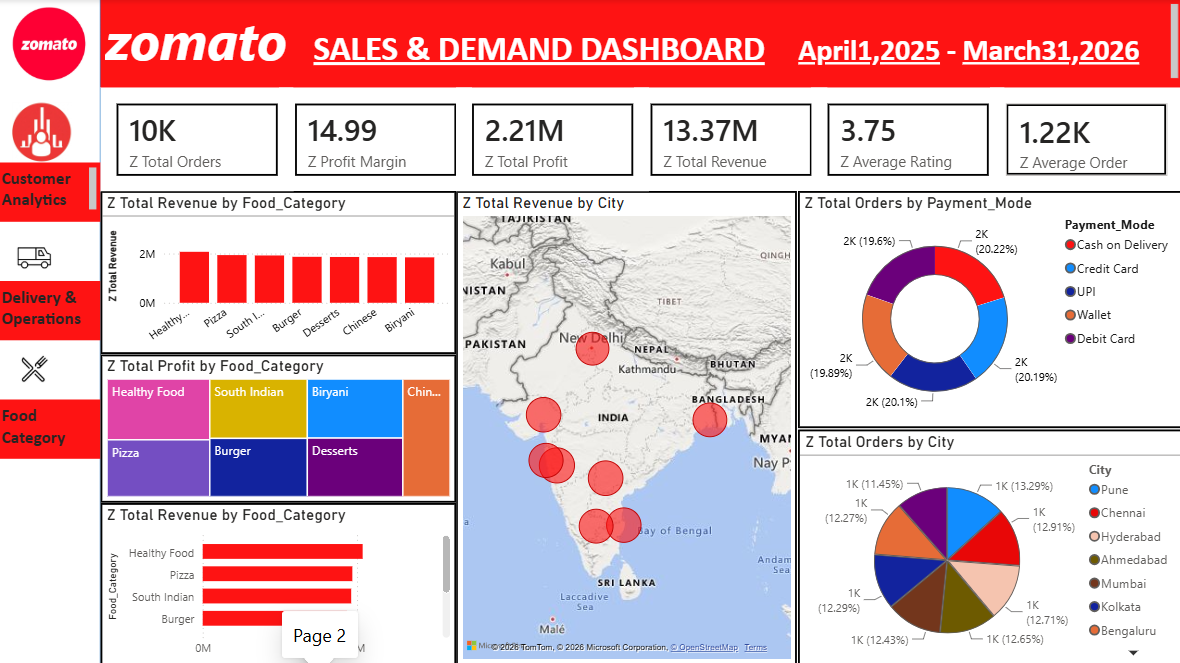

This screenshot's page, from the dashboard's own definition file:
{"tool":"powerbi","page":{"name":"Page 2","canvas":[1280,720],"ordinal":1},"visuals":[{"type":"shape","box":[0,0,112,720],"z":0},{"type":"image","box":[16,224,48,112],"z":1000},{"type":"image","box":[16,384,48,32],"z":2000},{"type":"image","box":[16,112,64,64],"z":3000},{"type":"textbox","box":[0,176,112,64],"z":4000},{"type":"textbox","box":[0,304,112,64],"z":5000},{"type":"textbox","box":[0,432,112,64],"z":6000},{"type":"textbox","box":[112,0,1168,96],"z":7000},{"type":"cardVisual","fields":{"Data":["Zomato_Sales_Data.Z Profit Margin"]},"box":[304,96,208,112],"z":8000},{"type":"cardVisual","fields":{"Data":["Zomato_Sales_Data.Z Total Revenue"]},"box":[688,96,208,112],"z":9000},{"type":"cardVisual","fields":{"Data":["Zomato_Sales_Data.Z Average Rating"]},"box":[880,96,208,112],"z":10000},{"type":"cardVisual","fields":{"Data":["Zomato_Sales_Data.Z Average Order"]},"box":[1072,96,208,112],"z":11000},{"type":"map","fields":{"Category":["Zomato_Sales_Data.City"],"Size":["Zomato_Sales_Data.Z Total Revenue"]},"box":[496,208,368,512],"z":12000},{"type":"clusteredColumnChart","fields":{"Category":["Zomato_Sales_Data.Food_Category"],"Y":["Zomato_Sales_Data.Z Total Revenue"]},"box":[112,208,384,176],"z":13000},{"type":"donutChart","fields":{"Y":["Zomato_Sales_Data.Z Total Orders"],"Category":["Zomato_Sales_Data.Payment_Mode"]},"box":[864,208,416,256],"z":14000},{"type":"clusteredBarChart","fields":{"Y":["Zomato_Sales_Data.Z Total Revenue"],"Category":["Zomato_Sales_Data.Food_Category"]},"box":[112,544,384,176],"z":15000},{"type":"treemap","fields":{"Values":["Zomato_Sales_Data.Z Total Profit"],"Details":["Zomato_Sales_Data.Food_Category"]},"box":[112,384,384,160],"z":16000},{"type":"pieChart","fields":{"Y":["Zomato_Sales_Data.Z Total Orders"],"Category":["Zomato_Sales_Data.City"]},"box":[864,464,416,256],"z":17000},{"type":"image","box":[0,0,112,96],"z":18000},{"type":"cardVisual","fields":{"Data":["Zomato_Sales_Data.Z Total Orders"]},"box":[112,96,208,112],"z":19000},{"type":"cardVisual","fields":{"Data":["Zomato_Sales_Data.Z Total Profit"]},"box":[496,96,208,112],"z":20000}]}

Visuals, with their boxes in screenshot pixels (x1, y1, x2, y2), scaled from the page's 1280x720 canvas onto the 1180x663 screenshot:
shape: (x1=0, y1=0, x2=103, y2=662)
image: (x1=15, y1=206, x2=59, y2=309)
image: (x1=15, y1=354, x2=59, y2=383)
image: (x1=15, y1=103, x2=74, y2=162)
textbox: (x1=0, y1=162, x2=103, y2=221)
textbox: (x1=0, y1=280, x2=103, y2=339)
textbox: (x1=0, y1=398, x2=103, y2=457)
textbox: (x1=103, y1=0, x2=1179, y2=88)
cardVisual - Zomato_Sales_Data.Z Profit Margin: (x1=280, y1=88, x2=472, y2=192)
cardVisual - Zomato_Sales_Data.Z Total Revenue: (x1=634, y1=88, x2=826, y2=192)
cardVisual - Zomato_Sales_Data.Z Average Rating: (x1=811, y1=88, x2=1003, y2=192)
cardVisual - Zomato_Sales_Data.Z Average Order: (x1=988, y1=88, x2=1179, y2=192)
map - Zomato_Sales_Data.City x Zomato_Sales_Data.Z Total Revenue: (x1=457, y1=192, x2=796, y2=662)
clusteredColumnChart - Zomato_Sales_Data.Food_Category x Zomato_Sales_Data.Z Total Revenue: (x1=103, y1=192, x2=457, y2=354)
donutChart - Zomato_Sales_Data.Z Total Orders x Zomato_Sales_Data.Payment_Mode: (x1=796, y1=192, x2=1179, y2=427)
clusteredBarChart - Zomato_Sales_Data.Z Total Revenue x Zomato_Sales_Data.Food_Category: (x1=103, y1=501, x2=457, y2=662)
treemap - Zomato_Sales_Data.Z Total Profit x Zomato_Sales_Data.Food_Category: (x1=103, y1=354, x2=457, y2=501)
pieChart - Zomato_Sales_Data.Z Total Orders x Zomato_Sales_Data.City: (x1=796, y1=427, x2=1179, y2=662)
image: (x1=0, y1=0, x2=103, y2=88)
cardVisual - Zomato_Sales_Data.Z Total Orders: (x1=103, y1=88, x2=295, y2=192)
cardVisual - Zomato_Sales_Data.Z Total Profit: (x1=457, y1=88, x2=649, y2=192)
